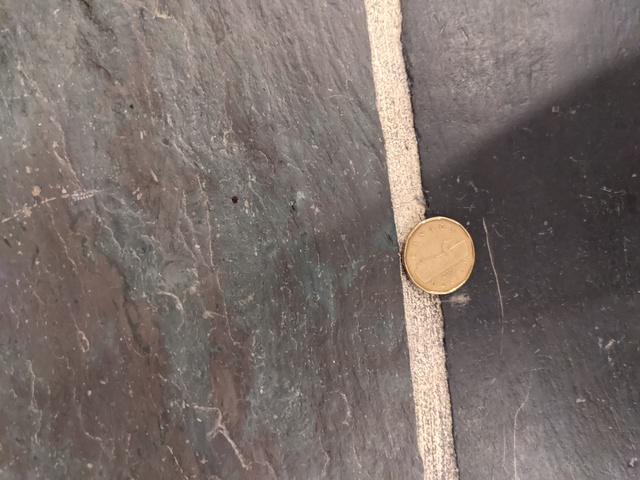loonie: (407, 215, 483, 295)
